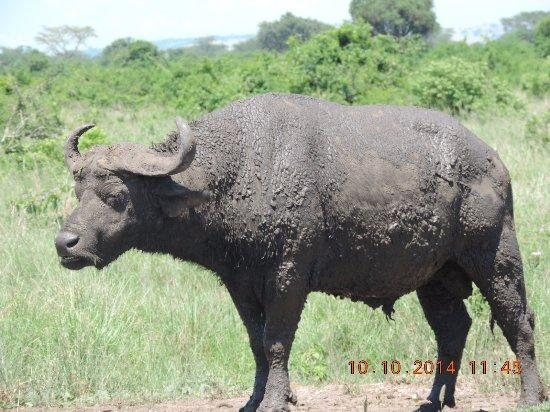Buffalo: (30, 54, 550, 412)
